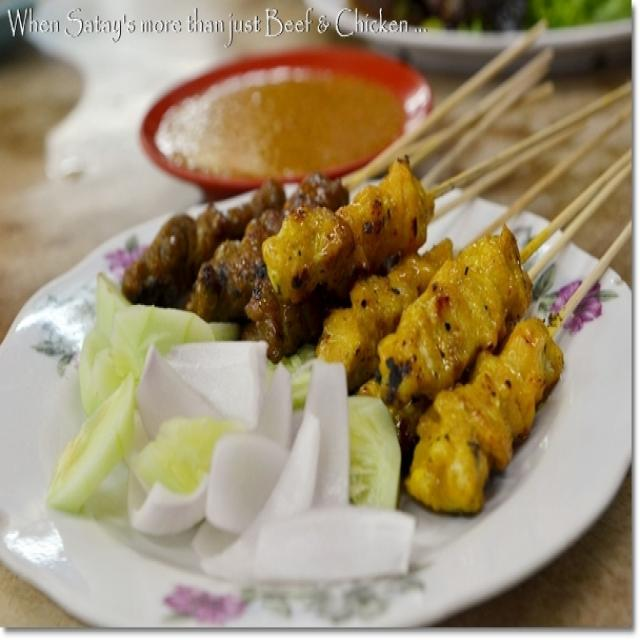牛肉菜式: (65, 85, 618, 564)
